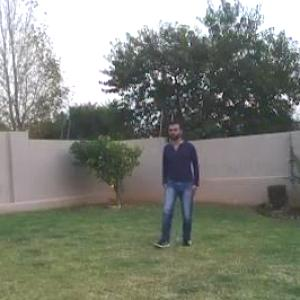follow: (156, 117, 202, 250)
